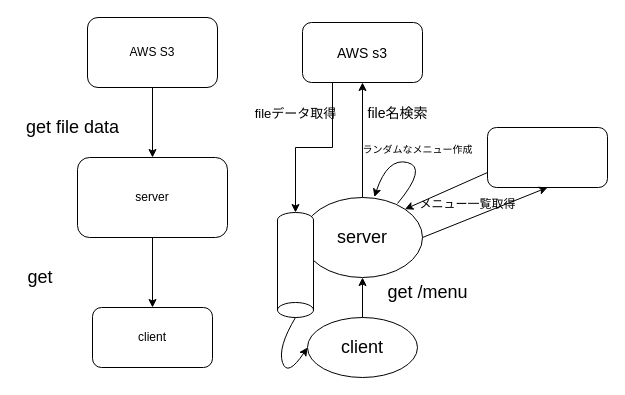
Image size: 625x395. Some labels were removed from this diagram. Here are the shapes that lost their labels. From the top down, the centre of each, then its label:
the point at 547,157: database
the point at 295,265: stream
